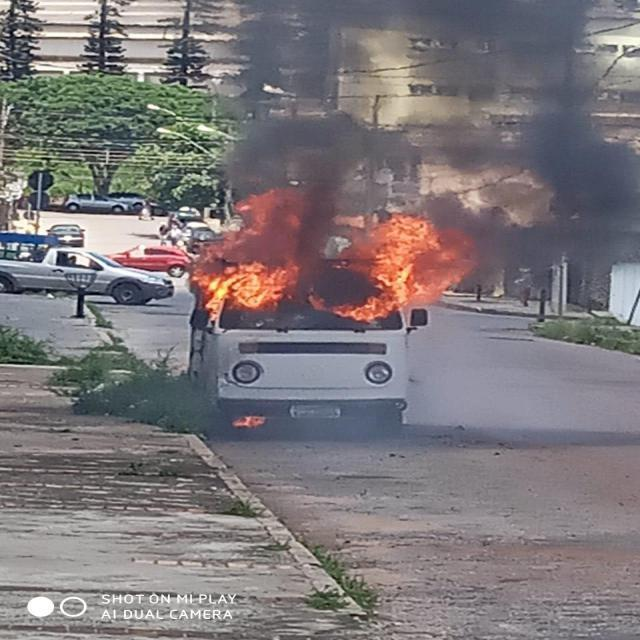Fire: (314, 211, 476, 321), (196, 185, 298, 319), (232, 414, 266, 426)
